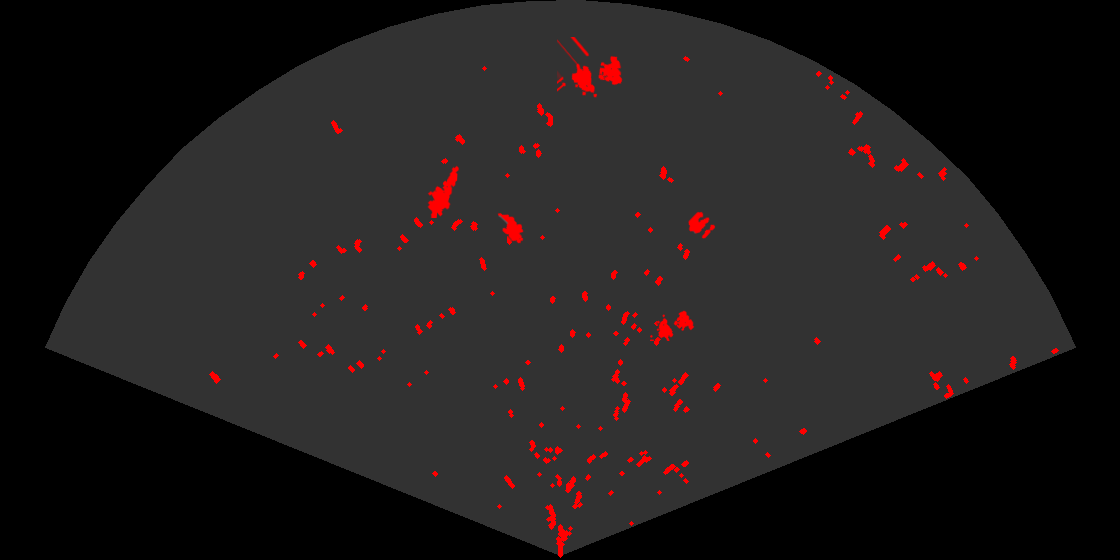AUV: (496, 211, 525, 245)
ball: (687, 210, 717, 240)
cage: (557, 37, 624, 99), (650, 309, 696, 341)
frogman: (426, 164, 460, 218)
